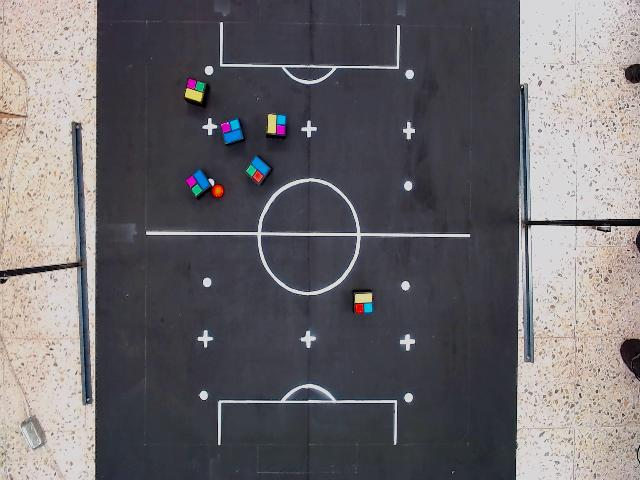robot: (242, 153, 272, 187), (184, 167, 212, 199), (218, 117, 246, 146), (182, 77, 207, 104), (352, 289, 375, 316), (265, 111, 288, 138)
